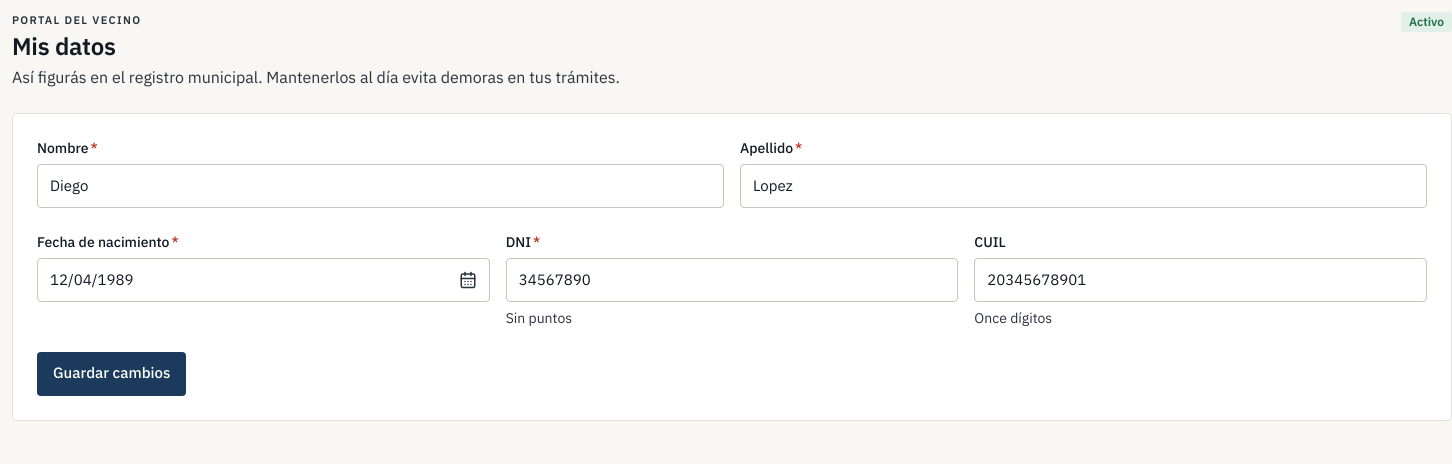
Test case: Perfil › valida antes de mandar
Clear the field labelled "Nombre". click: (380, 186)
box: x1=37 y1=164 x2=724 y2=208
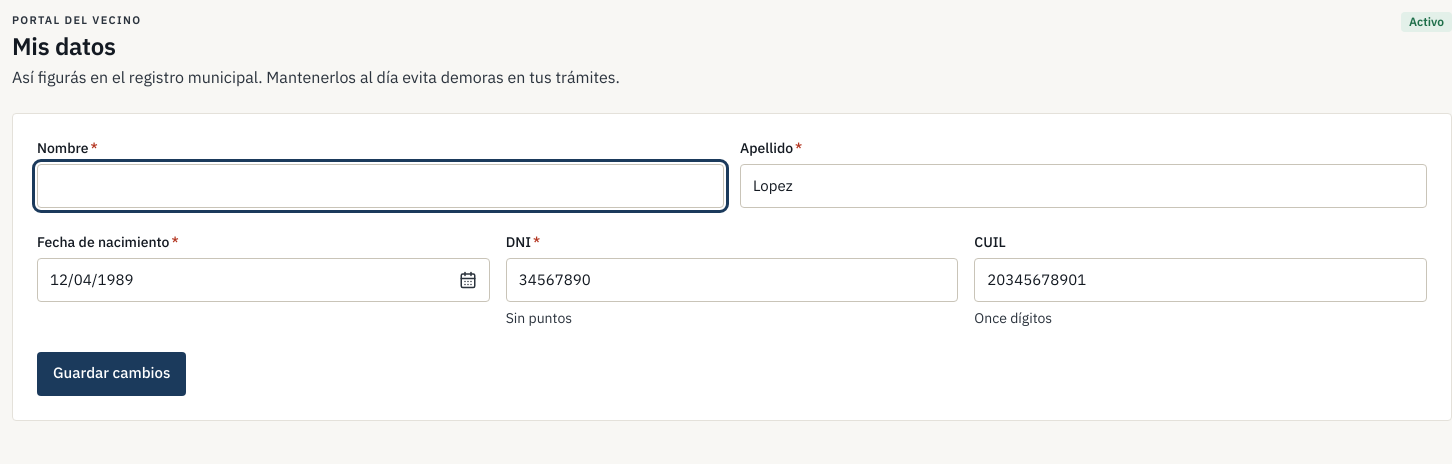
Click the button "Guardar cambios". click: (112, 374)
box: x1=37 y1=352 x2=186 y2=396
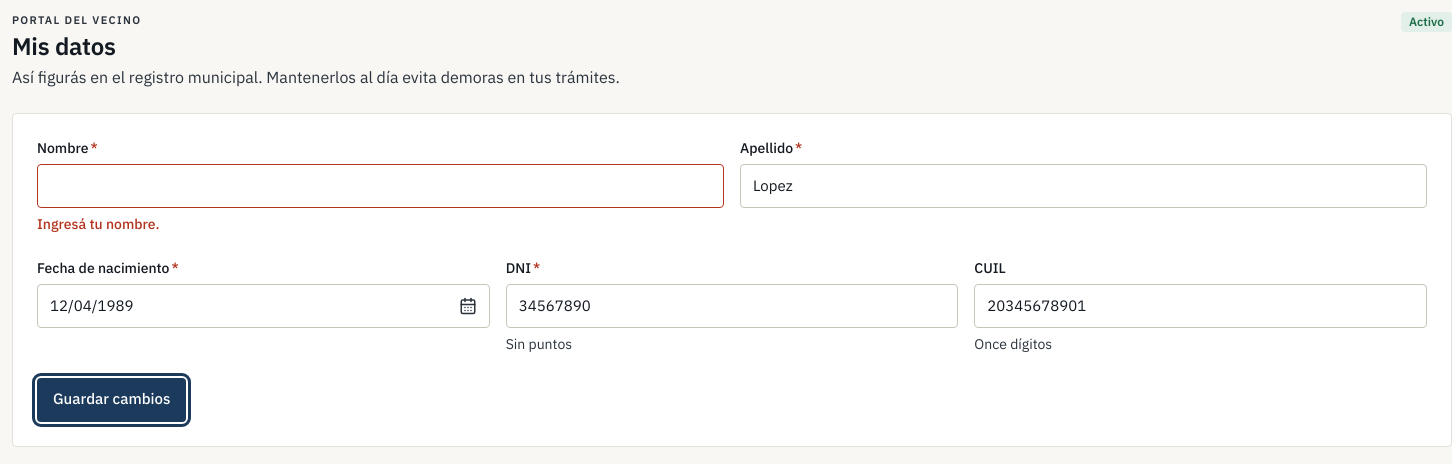
Now the text "Ingresá tu nombre." is shown, box x1=37 y1=214 x2=159 y2=232
